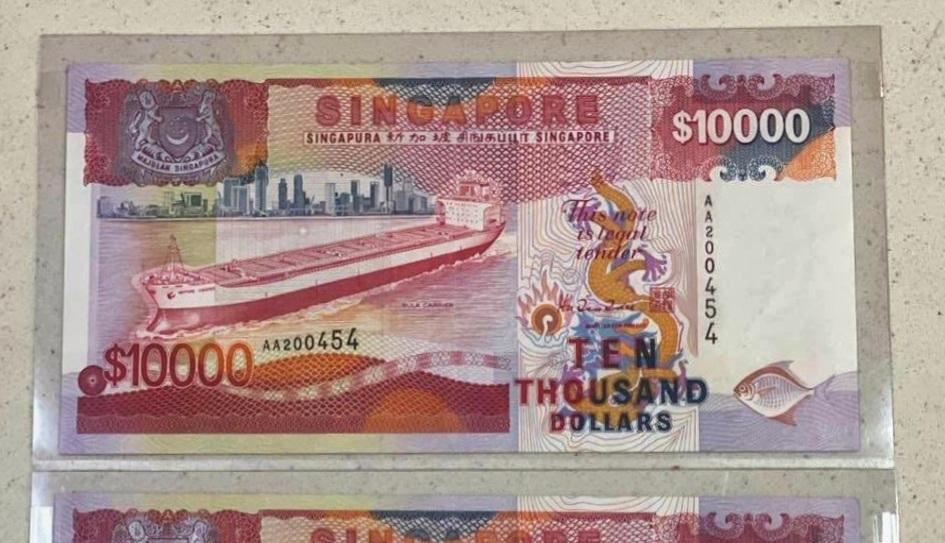10000SingaporeDollar: (67, 65, 846, 451)
